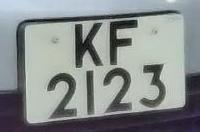1: (78, 66, 102, 119)
2: (37, 68, 85, 122), (100, 63, 136, 116)
3: (135, 60, 170, 111)
F: (104, 16, 141, 70)
K: (68, 18, 106, 71)
